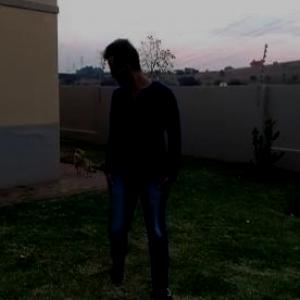follow: (97, 34, 179, 282)
